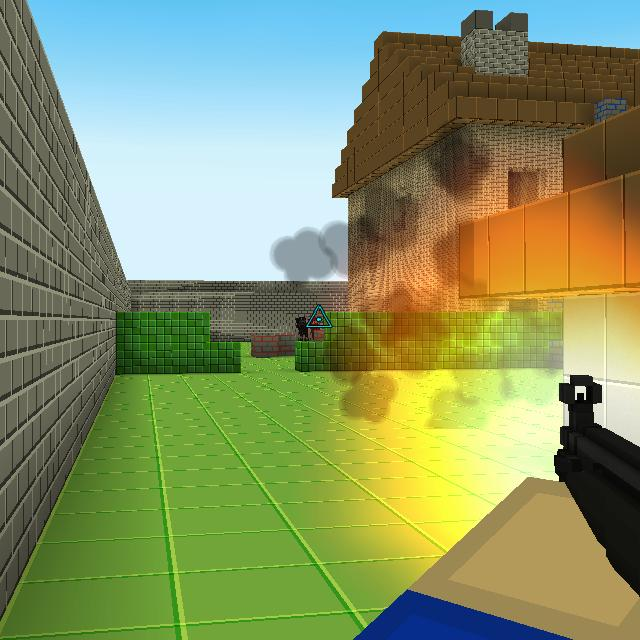enemy: (295, 314, 309, 340), (307, 315, 319, 341)
